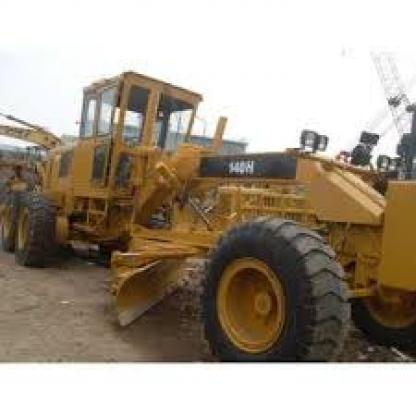bull_dozer/loader/grader: (11, 67, 414, 358)
